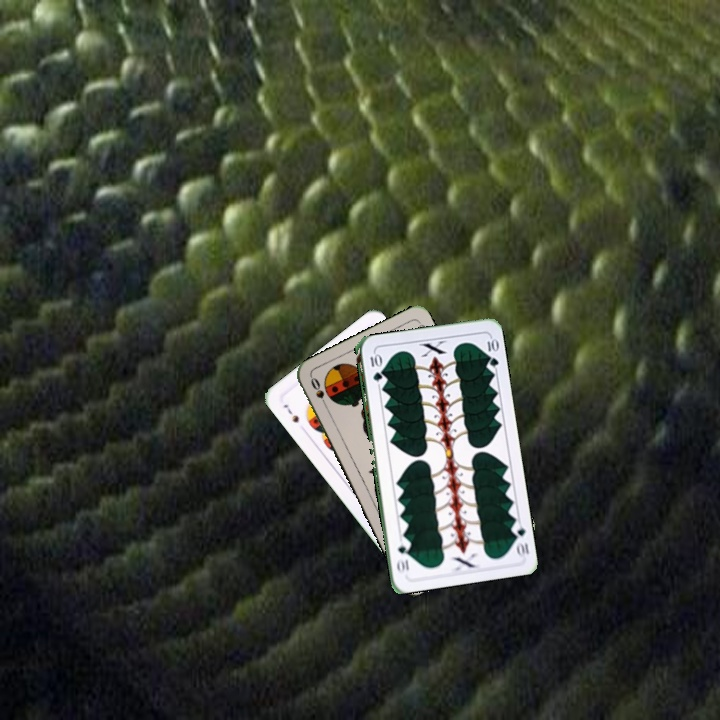G10: (507, 518, 532, 559), (366, 350, 383, 384)
S7: (279, 400, 301, 425)
SO: (307, 373, 330, 412)
